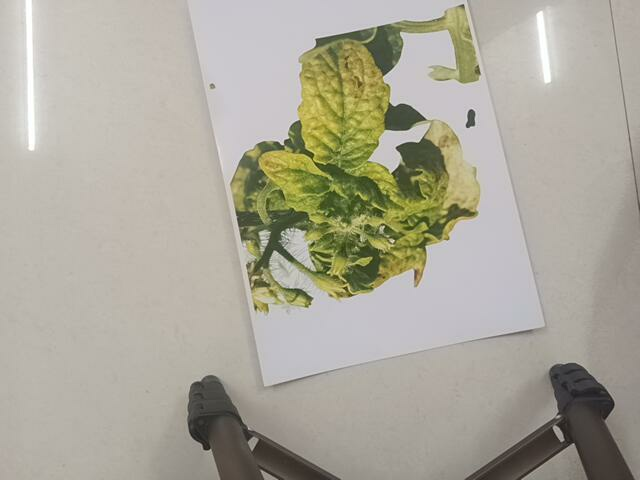Tomamto_Leaf_curl_virus: (213, 6, 527, 308)
